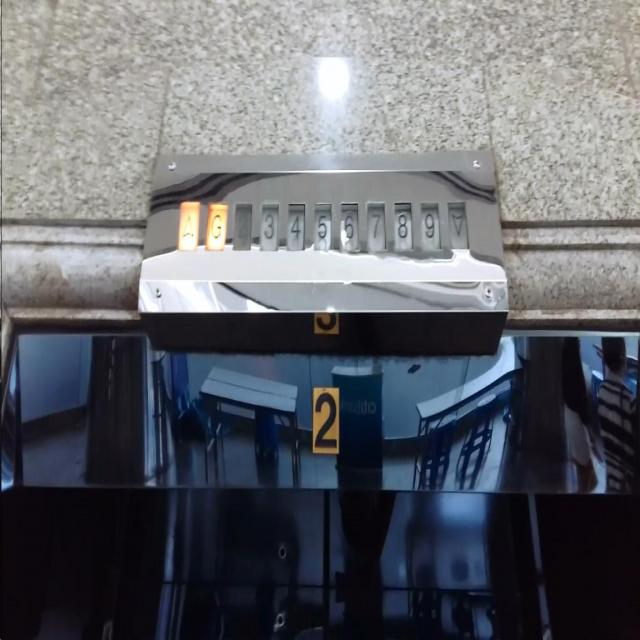2: (309, 381, 340, 457)
3: (258, 198, 278, 252)
4: (231, 196, 252, 252), (285, 196, 304, 252)
5: (312, 198, 331, 252)
6: (339, 198, 360, 254)
7: (364, 197, 386, 254)
8: (390, 197, 414, 253)
9: (417, 197, 442, 253)
G: (206, 196, 227, 252)
down: (444, 196, 471, 252)
up: (178, 196, 198, 252)
